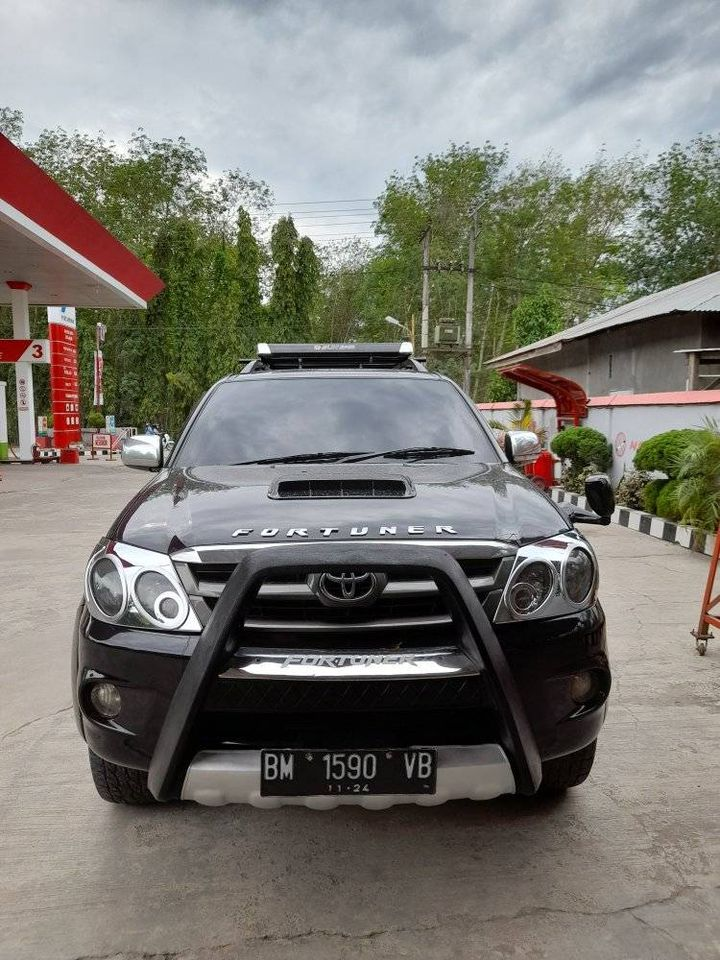plate: (262, 733, 447, 803)
